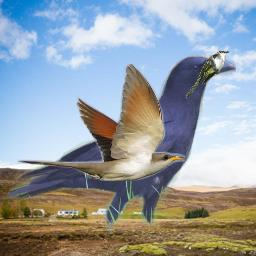Crow: (5, 54, 236, 241)
Cuckoo: (17, 64, 185, 181), (185, 50, 229, 99)
